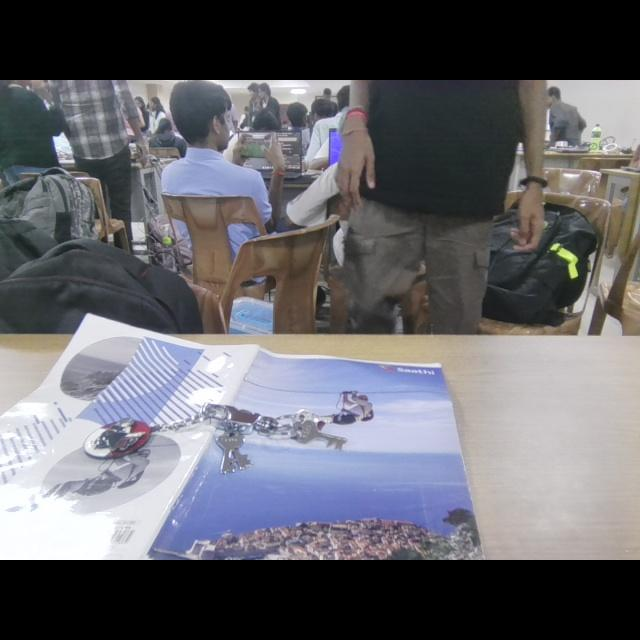keys: (85, 382, 381, 484)
